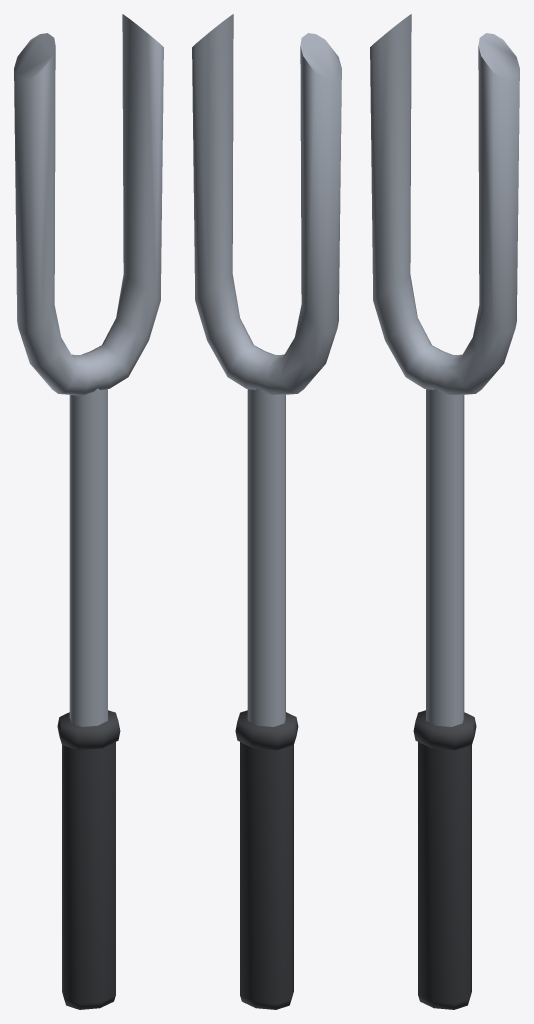
The model's file is misc_tuning_fork.glb.
The picture shows the model from 3 angles, left to right: view 1: azimuth 30°, elevation 25°; view 2: azimuth 150°, elevation 25°; view 3: azimuth 330°, elevation 25°; orthographic projection.
Parts seen in each view (by area): view 1: misc_tuning_fork; view 2: misc_tuning_fork; view 3: misc_tuning_fork.
Part boxes in pixels (x1,y1,x2,y2): misc_tuning_fork: [14, 14, 163, 1009]; misc_tuning_fork: [192, 14, 341, 1009]; misc_tuning_fork: [370, 14, 519, 1009].
Bounding box in the file's own units: 5.86 × 38.69 × 2.09.
Materials: 1 (1 with a texture image).
